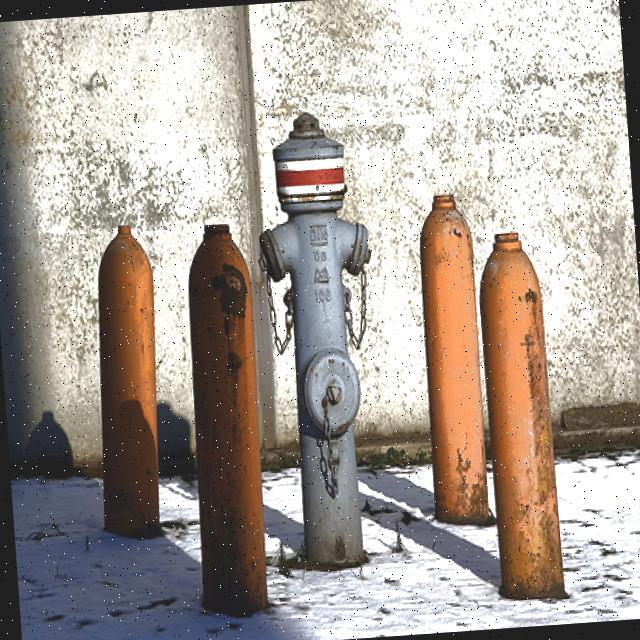fire_hydrant: (246, 108, 394, 576)
